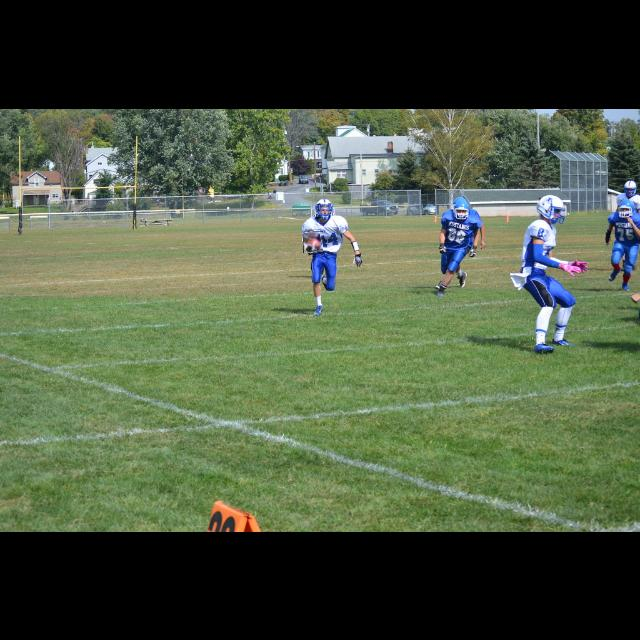Football: (303, 231, 323, 253)
